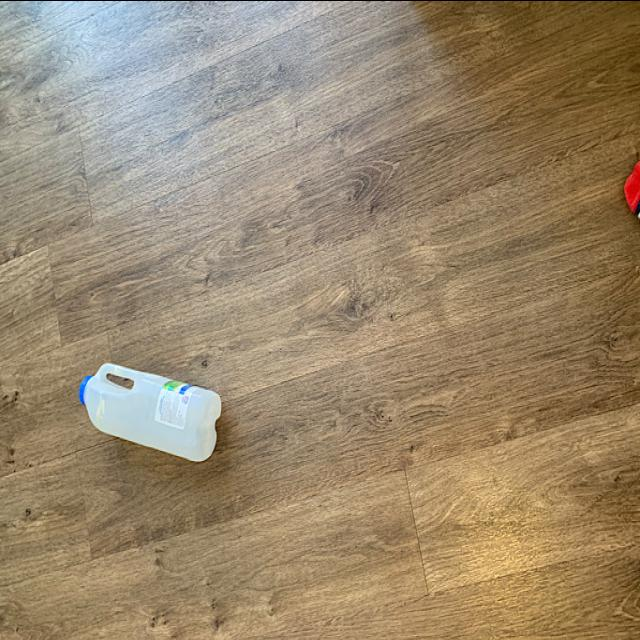HDPEM: (82, 359, 232, 465)
